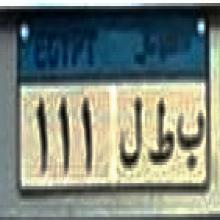1: (33, 94, 50, 182), (81, 94, 97, 176), (58, 96, 73, 176)
Taa: (148, 96, 174, 168)
baa: (177, 106, 205, 174)
laam: (118, 96, 143, 170)
